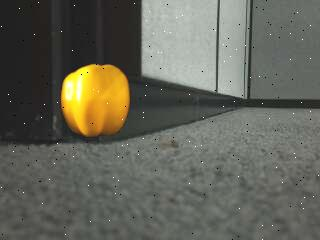Capsicum: (59, 63, 130, 140)
